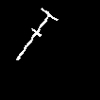double_crochet: (16, 8, 57, 59)
